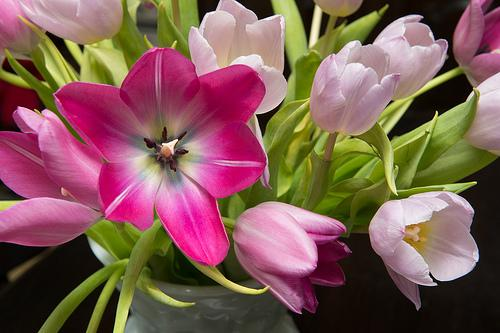tulip: (53, 45, 267, 266), (234, 200, 351, 315), (368, 189, 480, 285), (308, 39, 401, 136)
